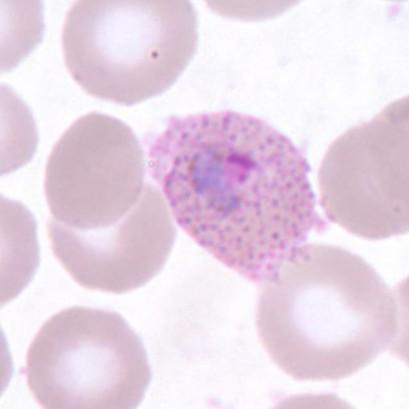Infected: (143, 108, 327, 282)
Uninfected: (254, 245, 394, 380), (62, 0, 201, 103), (40, 184, 169, 293), (311, 103, 409, 245), (20, 306, 154, 409), (38, 110, 142, 226)
